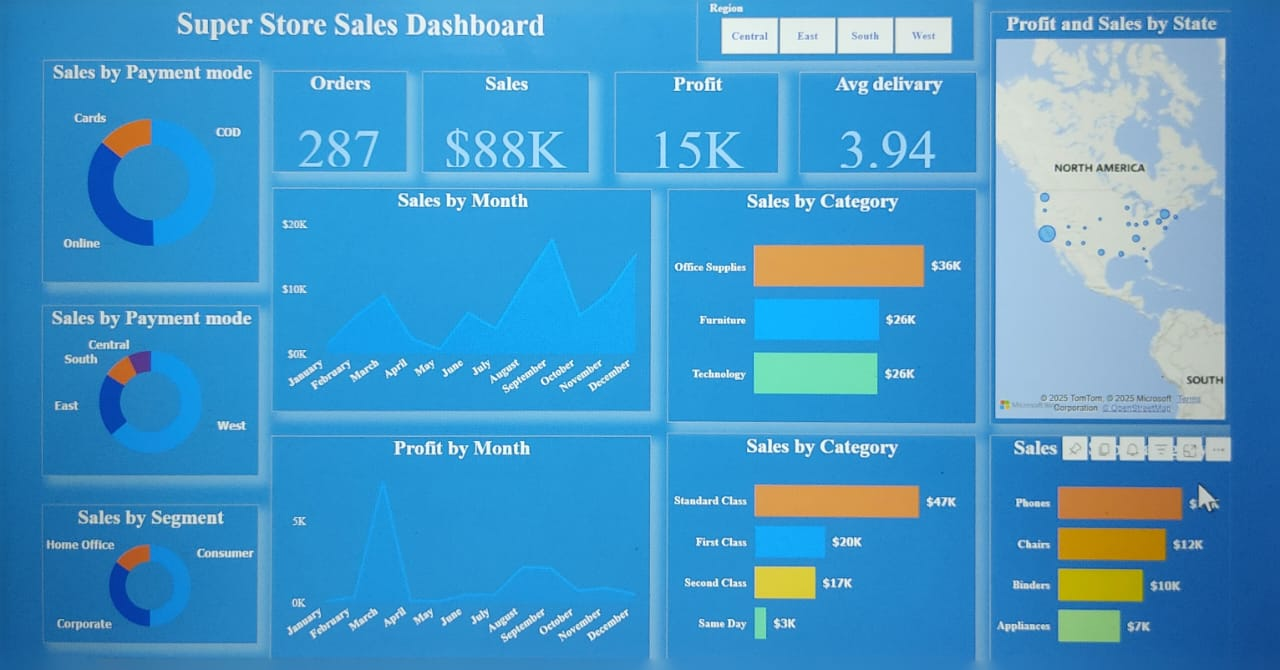

What the dashboard file says about the page in this screenshot:
{"tool":"powerbi","page":{"name":"Page 1","canvas":[1280,720],"ordinal":0},"visuals":[{"type":"clusteredBarChart","title":"Sales by Category","fields":{"Category":["Super_store_sales.Category"],"Y":["Sum(Super_store_sales.Sales)"]},"box":[676.8,208.9,333.6,254.2],"z":0},{"type":"clusteredBarChart","title":"Sales by Sub-Category","fields":{"Y":["Sum(Super_store_sales.Sales)"],"Category":["Super_store_sales.Sub-Category"]},"box":[1025,474.4,255.8,246.1],"z":1},{"type":"clusteredBarChart","title":"Sales by Category","fields":{"Y":["Sum(Super_store_sales.Sales)"],"Category":["Super_store_sales.Ship Mode"]},"box":[676.8,474.4,333.6,246.1],"z":2},{"type":"areaChart","title":"Sales by Month ","fields":{"Y":["Sum(Super_store_sales.Sales)"],"Category":["Super_store_sales.Order Date.Variation.Date Hierarchy.Month","Super_store_sales.Order Date.Variation.Date Hierarchy.Day"],"Series":["Super_store_sales.Order Date.Variation.Date Hierarchy.Year"]},"box":[247.7,208.9,411.3,242.9],"z":3},{"type":"areaChart","title":"Profit by Month ","fields":{"Category":["Super_store_sales.Order Date.Variation.Date Hierarchy.Month"],"Y":["Sum(Super_store_sales.Profit)"]},"box":[247.7,477.7,411.3,242.9],"z":4},{"type":"map","title":" Profit and Sales by State","fields":{"Category":["Super_store_sales.State"],"Size":["Sum(Super_store_sales.Sales)"]},"box":[1025,17.8,255.8,445.3],"z":5},{"type":"donutChart","title":"Sales by Segment","fields":{"Category":["Super_store_sales.Segment"],"Y":["Sum(Super_store_sales.Sales)"]},"box":[0,552.2,234.8,150.6],"z":6},{"type":"donutChart","title":"Sales by Payment mode","fields":{"Y":["Sum(Super_store_sales.Sales)"],"Category":["Super_store_sales.Payment Mode"]},"box":[0,71.2,234.8,241.3],"z":7},{"type":"donutChart","title":"Sales by Payment mode","fields":{"Y":["Sum(Super_store_sales.Sales)"],"Category":["Super_store_sales.Region"]},"box":[0,336.8,234.8,184.6],"z":8},{"type":"cardVisual","title":"Orders","fields":{"Data":["CountNonNull(Super_store_sales.Order ID)"]},"box":[247.7,82.6,145.7,110.1],"z":9},{"type":"cardVisual","title":"Sales","fields":{"Data":["Sum(Super_store_sales.Sales)"]},"box":[409.7,82.6,181.4,110.1],"z":10},{"type":"cardVisual","title":"Profit","fields":{"Data":["Sum(Super_store_sales.Profit)"]},"box":[618.5,82.6,178.1,110.1],"z":11},{"type":"cardVisual","title":"Avg delivary","fields":{"Data":["Avg(Super_store_sales.Avgdelivary)"]},"box":[819.3,82.6,191.1,110.1],"z":12},{"type":"slicer","fields":{"Values":["Super_store_sales.Region"]},"box":[707.6,0,299.6,71.2],"z":13},{"type":"textbox","box":[9.7,8.1,667.1,53.4],"z":14}]}

Visuals, with their boxes in screenshot pixels (x1, y1, x2, y2):
"Sales by Category" clusteredBarChart: box(668, 202, 974, 435)
"Sales by Sub-Category" clusteredBarChart: box(987, 445, 1222, 669)
"Sales by Category" clusteredBarChart: box(668, 445, 974, 669)
"Sales by Month " areaChart: box(274, 202, 651, 425)
"Profit by Month " areaChart: box(274, 448, 651, 669)
" Profit and Sales by State" map: box(987, 26, 1222, 435)
"Sales by Segment" donutChart: box(47, 517, 262, 655)
"Sales by Payment mode" donutChart: box(47, 75, 262, 297)
"Sales by Payment mode" donutChart: box(47, 319, 262, 488)
"Orders" cardVisual: box(274, 86, 408, 187)
"Sales" cardVisual: box(423, 86, 589, 187)
"Profit" cardVisual: box(614, 86, 778, 187)
"Avg delivary" cardVisual: box(799, 86, 974, 187)
slicer - Super_store_sales.Region: box(696, 10, 971, 75)
textbox: box(56, 17, 668, 66)
